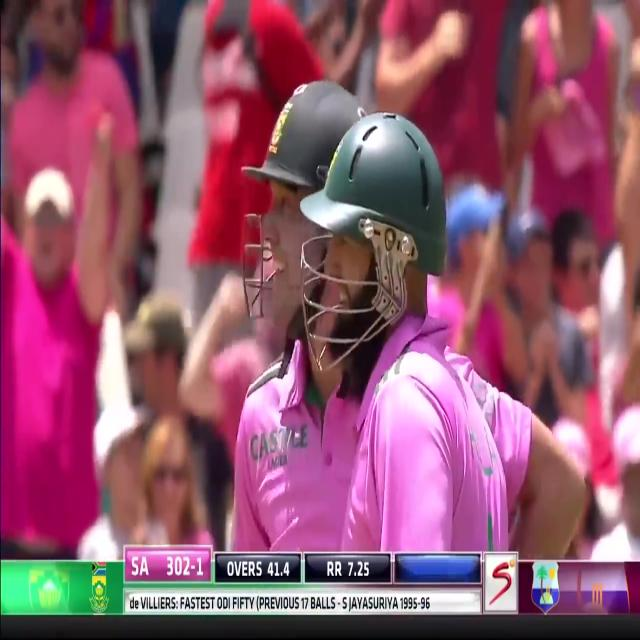Ball: (302, 113, 530, 554)
